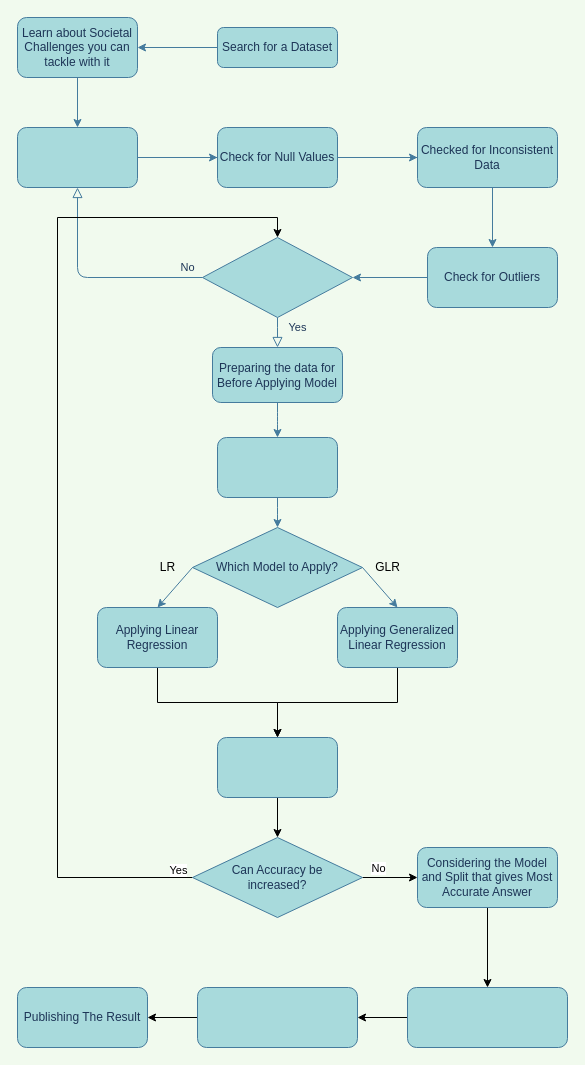
Image size: 585x1065. Some labels were removed from this diagram. The centre of each missing label's shape, as x and y in pixels:
"Analyzing The Data" belongs at pixel 77 157.
"Documenting the Project and presenting to Invigilator" belongs at pixel 277 1017.
"Is the Data Clean Enough?" belongs at pixel 277 277.
"Obtaining Accuracy" belongs at pixel 277 767.
"Solving The Societal Challenges you Started the Project with" belongs at pixel 487 1017.
"Split the Dataset into Training and Test" belongs at pixel 277 467.
